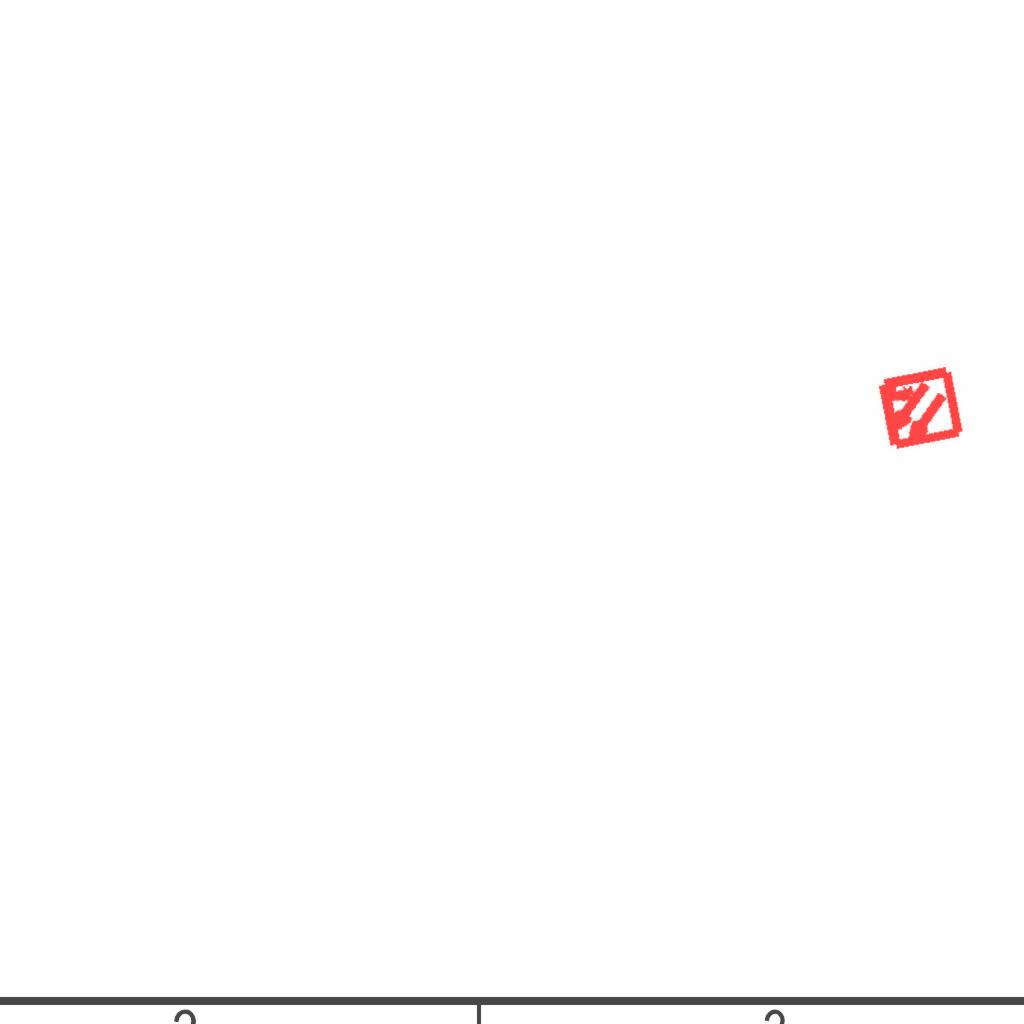OT_Multisensormelder_(Kombination_RMO_WMD): (852, 342, 985, 475)
